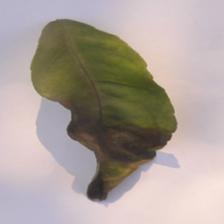black spot: (31, 104, 190, 206)
